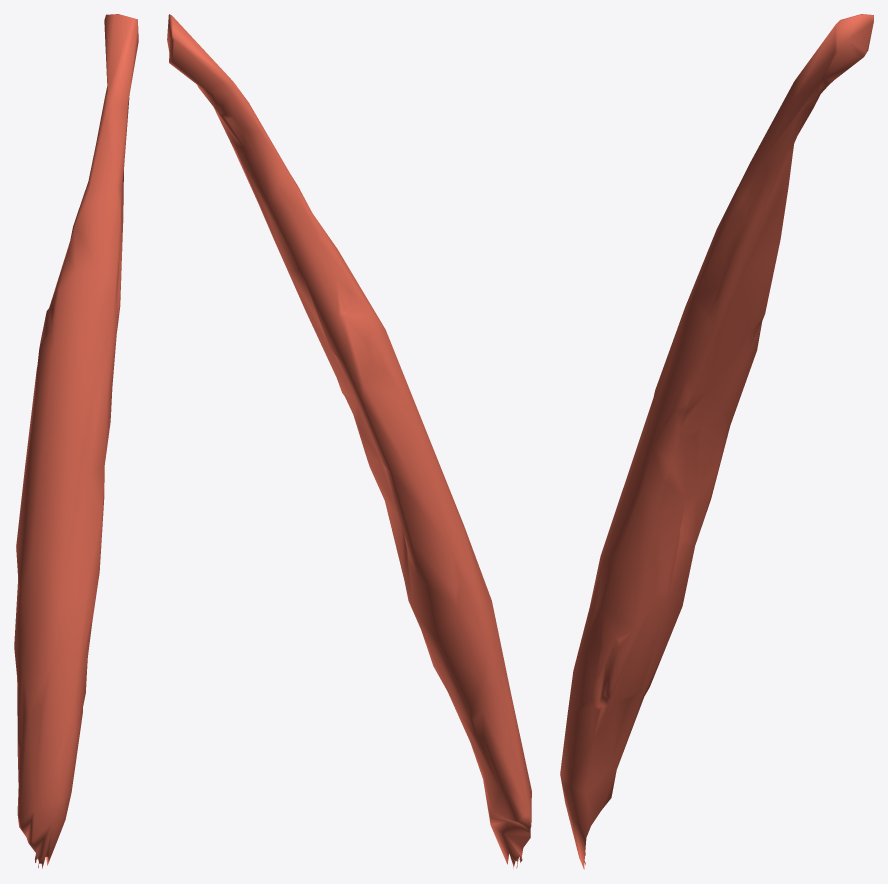
The model's file is flexor-digiti-minimi-brevis.glb.
The picture shows the model from 3 angles, left to right: view 1: azimuth 30°, elevation 25°; view 2: azimuth 150°, elevation 25°; view 3: azimuth 270°, elevation 25°; orthographic projection. The views are drawn at different scales.
Parts seen in each view (by area): view 1: Flexor digiti minimi of hand.l; view 2: Flexor digiti minimi of hand.l; view 3: Flexor digiti minimi of hand.l.
Boxes of the visible parts, box(x1,y1,x2,y2) form: Flexor digiti minimi of hand.l: box(14, 14, 138, 868); Flexor digiti minimi of hand.l: box(167, 14, 531, 868); Flexor digiti minimi of hand.l: box(560, 14, 873, 869).
Bounding box in the file's own units: 0.0185 × 0.0621 × 0.0182.
